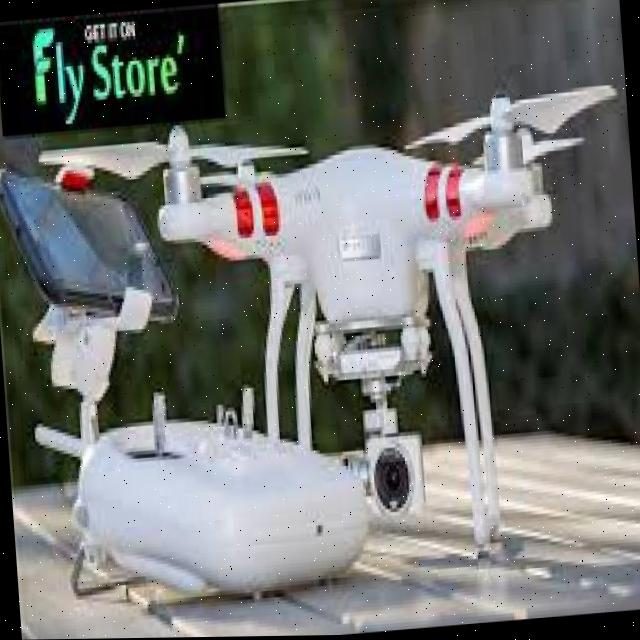drone: (62, 73, 622, 568)
